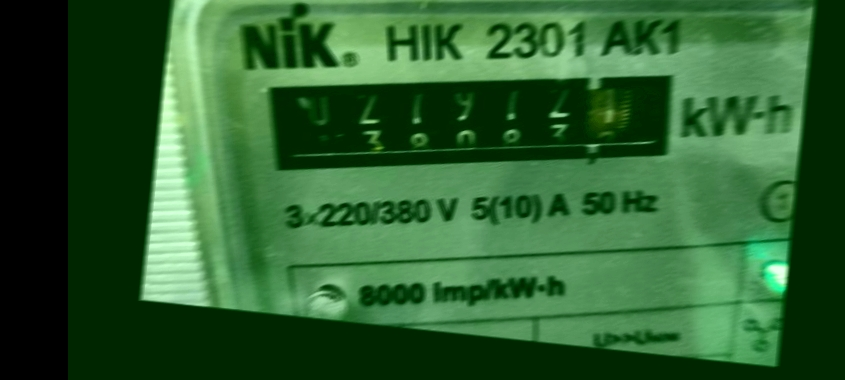0: (302, 89, 334, 128)
1: (597, 83, 623, 128)
2: (352, 85, 385, 127), (543, 81, 575, 121)
7: (496, 81, 526, 125), (402, 87, 429, 127)
9: (450, 85, 479, 123)
screen: (243, 23, 708, 223)
